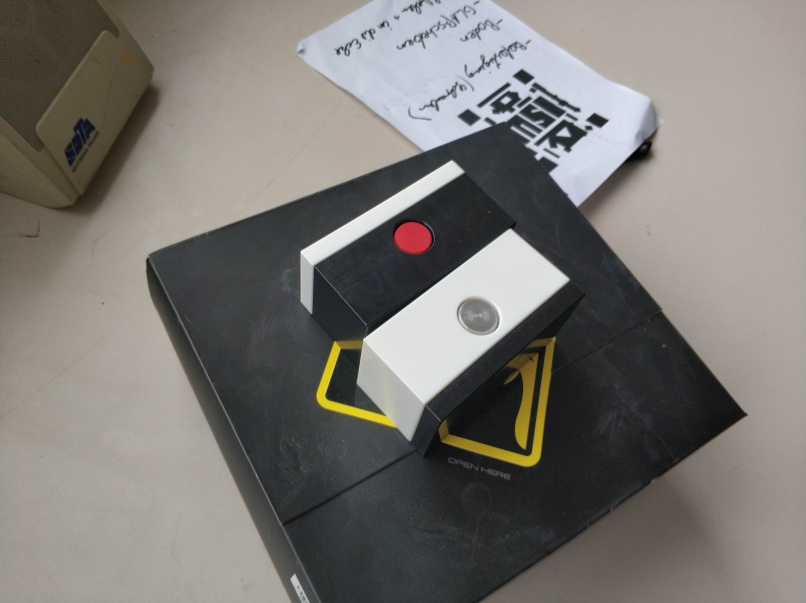black+white+silver: (358, 225, 587, 461)
white+black+red: (298, 154, 520, 375)
